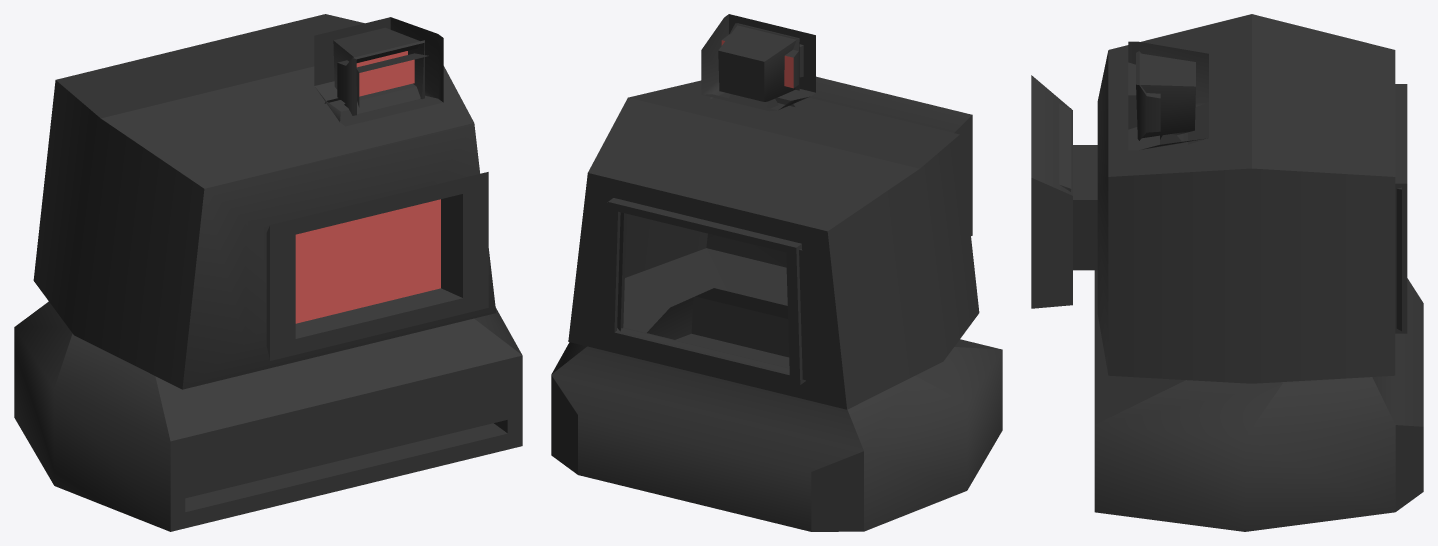
Rendered from Polaroid Camera (1).fbx.
3 views of the same model, side by side, from view 1: azimuth 30°, elevation 25°; view 2: azimuth 150°, elevation 25°; view 3: azimuth 270°, elevation 25° (orthographic). The views are drawn at different scales.
Visible parts, largest first — view 1: Cube.005; view 2: Cube.005; view 3: Cube.005.
Part boxes in pixels (bbox=[...]): Cube.005: bbox=[14, 14, 522, 531]; Cube.005: bbox=[551, 14, 1002, 531]; Cube.005: bbox=[1031, 14, 1423, 531].
Size of the model in its own units: 95.5 by 87.78 by 78.56.
